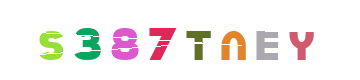3: (49, 0, 129, 80)
7: (140, 0, 220, 80)
8: (84, 0, 164, 80)
E: (194, 0, 274, 80)
N: (181, 0, 261, 80)
S: (11, 0, 91, 80)
T: (158, 0, 238, 80)
Y: (203, 0, 283, 80)
